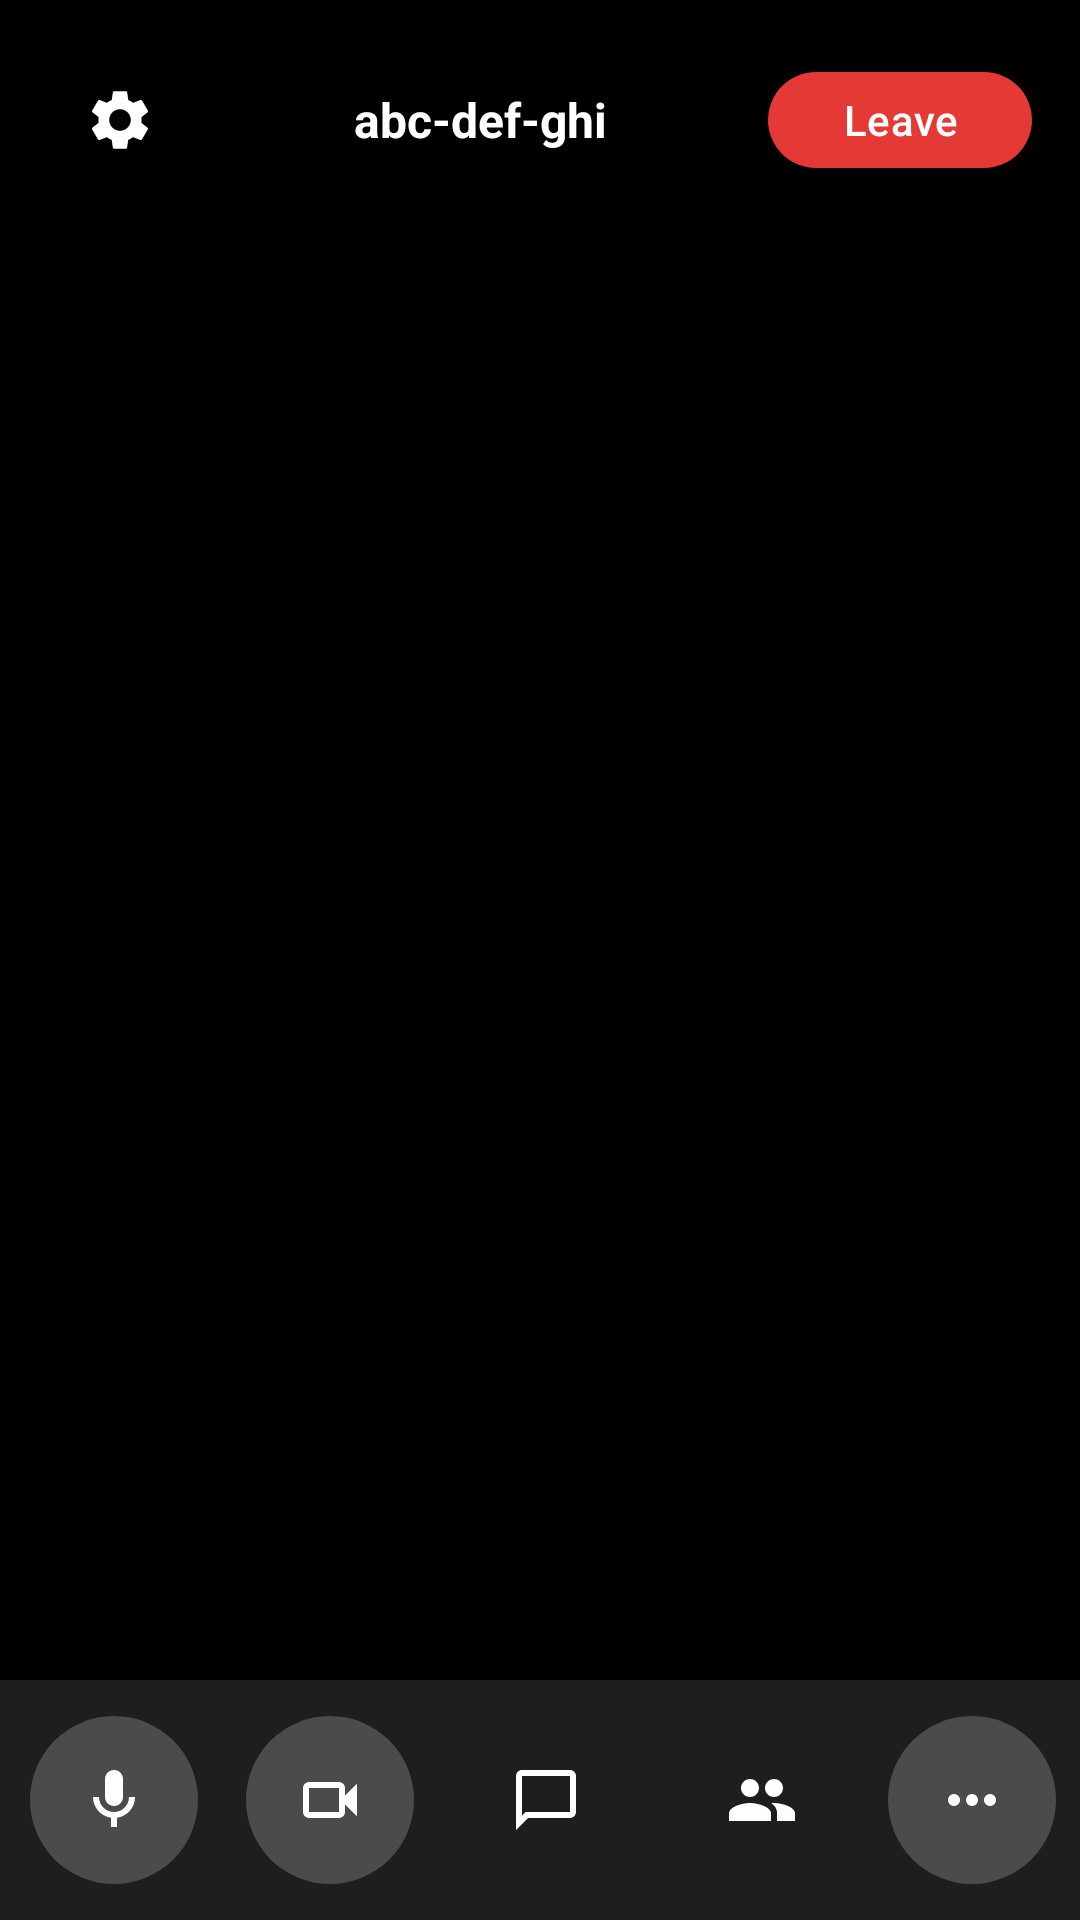

Screen size 1080 x 1920. Icon name, then its center in pixels as (x,y):
chat: (546,1800)
mic: (114,1800)
more: (972,1800)
people: (762,1800)
settings: (120,120)
videocam: (330,1800)
